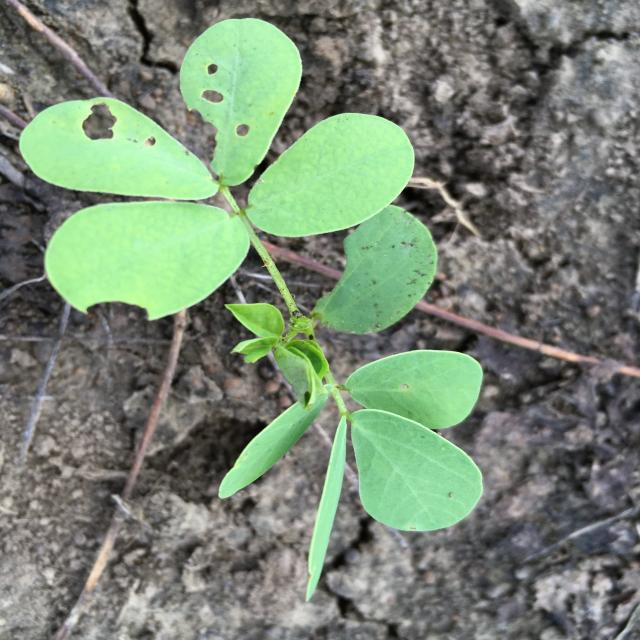Sicklepod: (19, 18, 483, 602)
